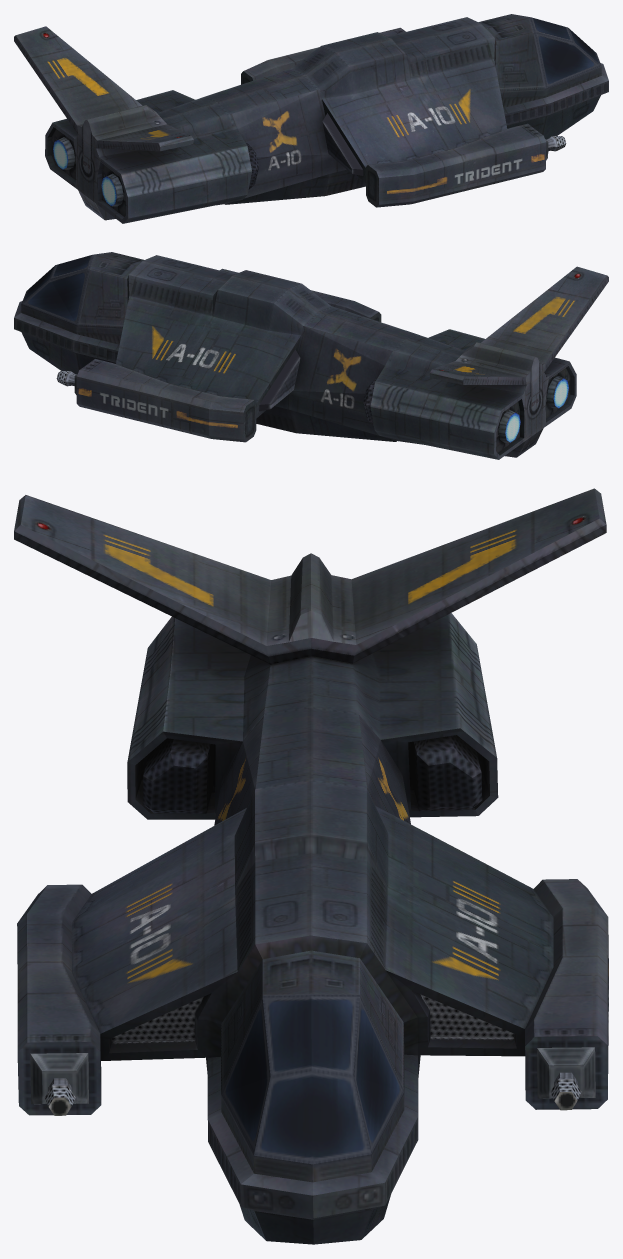
3 views of the same model, one above another, from view 1: azimuth 30°, elevation 25°; view 2: azimuth 150°, elevation 25°; view 3: azimuth 270°, elevation 25° (orthographic). The views are drawn at different scales.
Visible parts, largest first — view 1: node_id37; view 2: node_id37; view 3: node_id37.
Part boxes in pixels (box(x1,y1,x2,y2)): node_id37: box(14, 14, 608, 223); node_id37: box(14, 252, 608, 459); node_id37: box(14, 488, 608, 1244).
Bounding box in the file's own units: 0.5372 × 0.1533 × 0.2681.
Materials: 1 (1 with a texture image).
